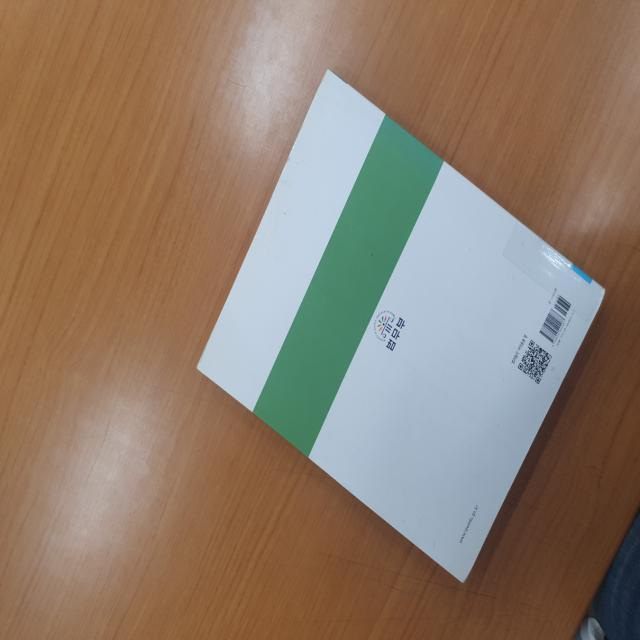Wornout: (284, 118, 311, 164)
